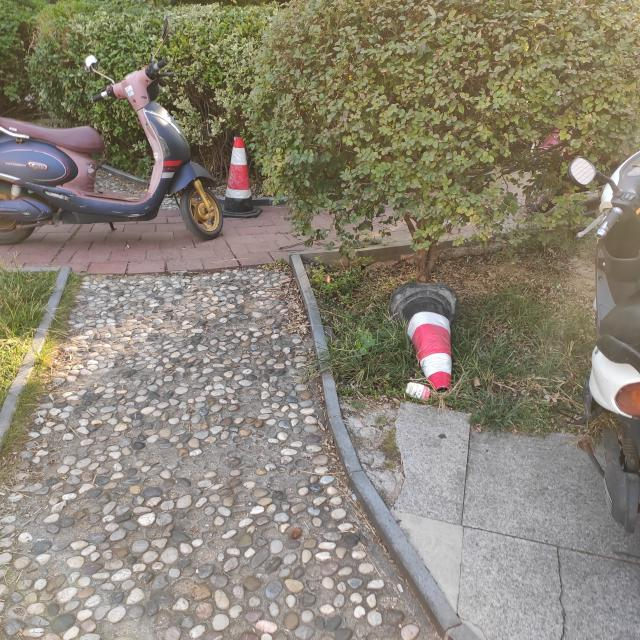motorbike: (1, 18, 223, 242), (567, 139, 640, 530)
reflective_cone: (389, 280, 458, 390), (219, 135, 263, 218)
